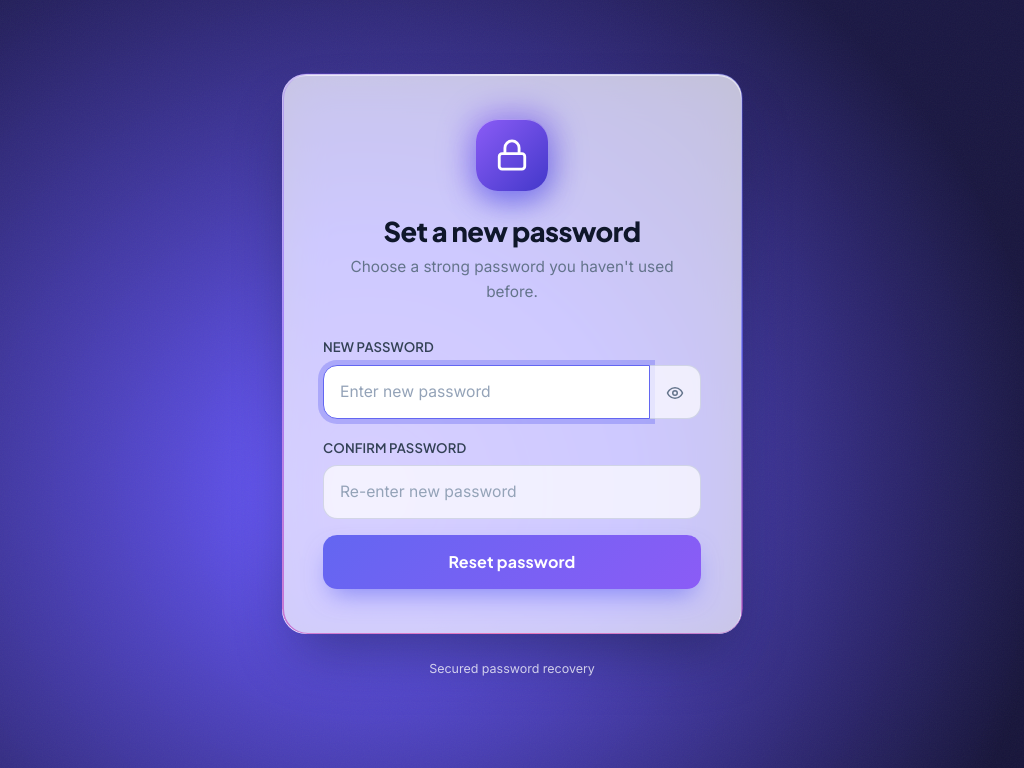
ResetPassword page › shows a strength label as the password gets stronger
Type "Str0ng!Passw0rd" into the password field labelled "New password" at (486, 392), box top-left (323, 365), bottom-right (650, 418)
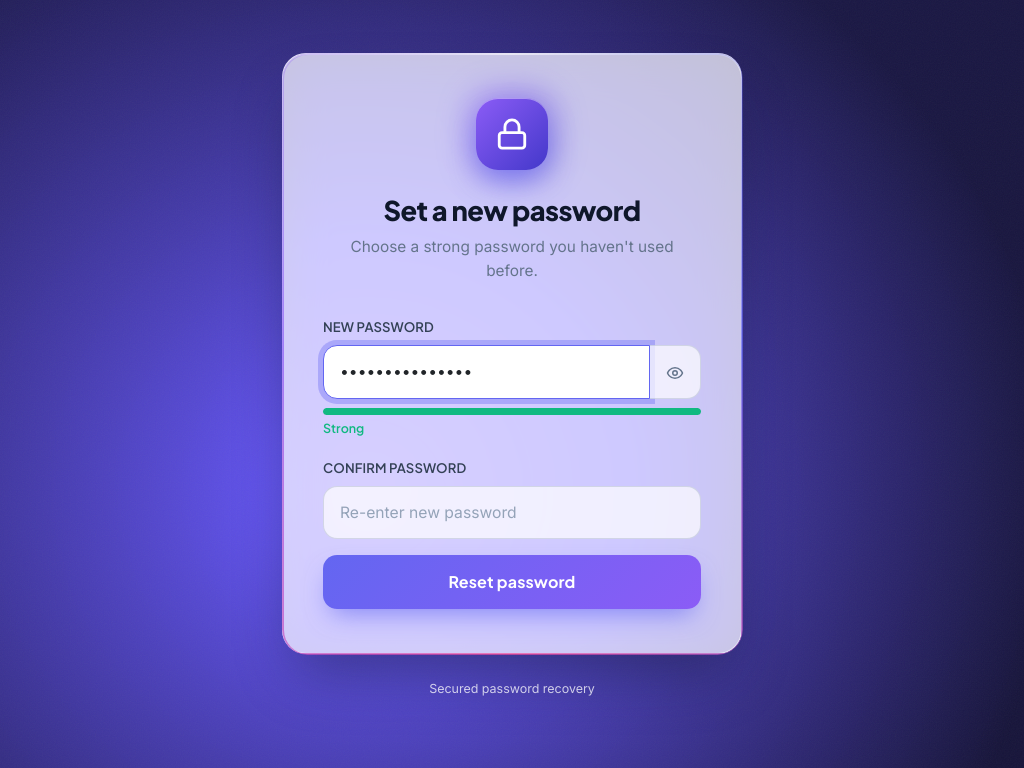
Expected: the text with class "strength-label" reads "Strong", top-left (323, 420), bottom-right (364, 436)
